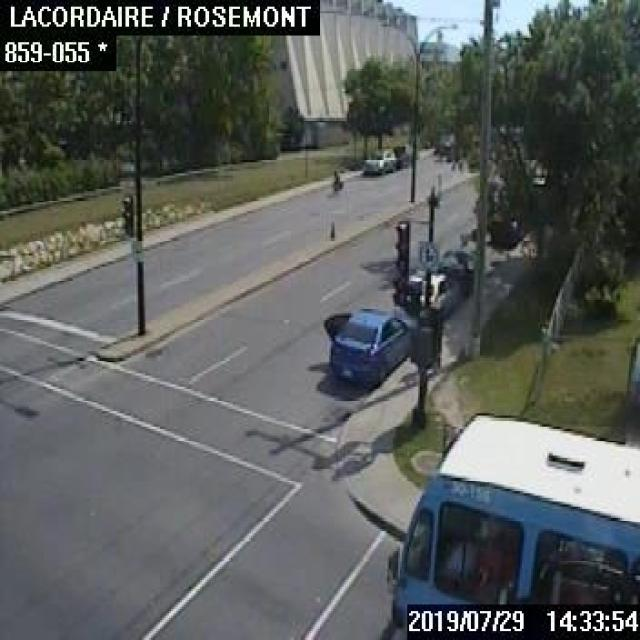bus: (384, 412, 638, 638)
cyclist: (325, 168, 345, 196)
vehicle: (322, 308, 412, 386), (404, 274, 459, 316), (361, 146, 395, 172), (391, 144, 409, 166)
